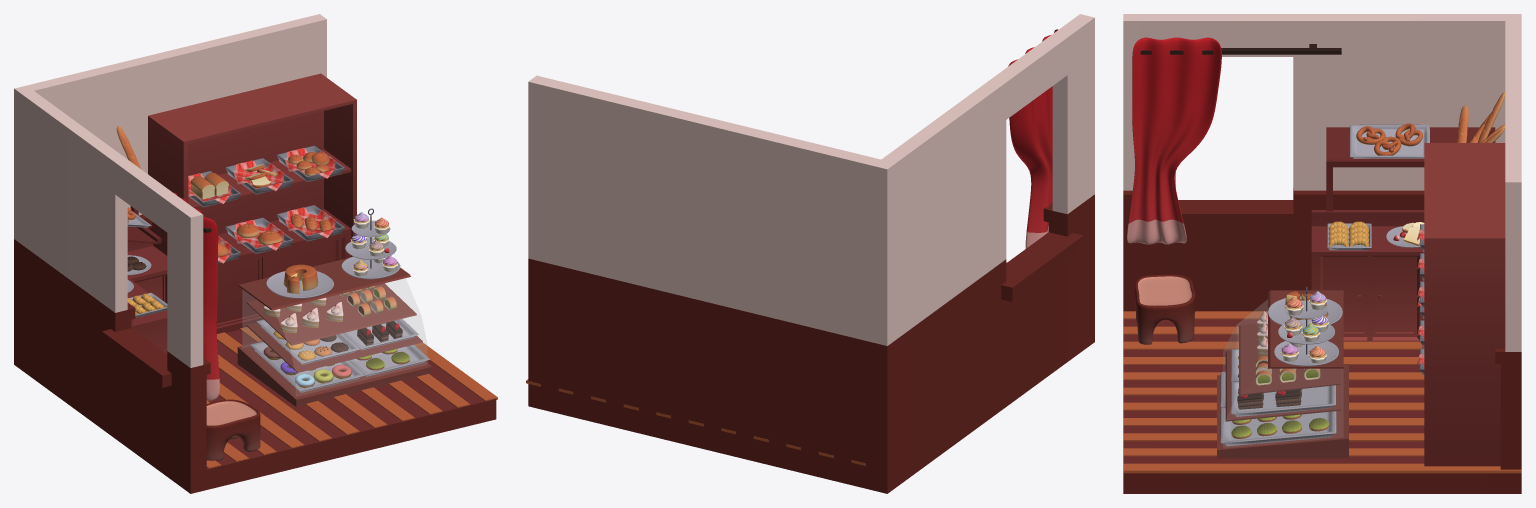
3 renders of one model, left to right at view 1: azimuth 30°, elevation 25°; view 2: azimuth 150°, elevation 25°; view 3: azimuth 270°, elevation 25°, orthographic. The views are drawn at different scales.
Parts seen in each view (by area): view 1: Cube, Cube.001, Cube.003, Cube.004, Cube.007, Cube.008, Cube.002, Cube.005, Cube.006, dishes.001, plate2.006, plate2.002 (+9 smaller); view 2: Cube, Cube.006; view 3: Cube, Cube.001, Cube.007, Cube.006, Cube.002, Cube.008, Cube.003, Cube.004, Cube.005, plate1.002, dishes.001, plate1.004 (+3 smaller).
Boxes of the visible parts, x1=… form: Cube: x1=14, y1=14, x2=496, y2=493; Cube.001: x1=148, y1=73, x2=356, y2=333; Cube.003: x1=242, y1=278, x2=426, y2=396; Cube.004: x1=237, y1=257, x2=431, y2=406; Cube.007: x1=206, y1=327, x2=497, y2=468; Cube.008: x1=206, y1=329, x2=495, y2=469; Cube.002: x1=127, y1=206, x2=167, y2=354; Cube.005: x1=206, y1=399, x2=260, y2=460; Cube.006: x1=174, y1=192, x2=219, y2=400; dishes.001: x1=341, y1=208, x2=400, y2=279; plate2.006: x1=276, y1=205, x2=344, y2=241; plate2.002: x1=225, y1=158, x2=293, y2=194; Cube: x1=528, y1=14, x2=1094, y2=493; Cube.006: x1=1008, y1=29, x2=1057, y2=248; Cube: x1=1123, y1=14, x2=1521, y2=493; Cube.001: x1=1424, y1=143, x2=1505, y2=466; Cube.007: x1=1123, y1=311, x2=1521, y2=473; Cube.006: x1=1127, y1=37, x2=1341, y2=244; Cube.002: x1=1311, y1=127, x2=1495, y2=348; Cube.008: x1=1123, y1=319, x2=1424, y2=463; Cube.003: x1=1223, y1=299, x2=1342, y2=447; Cube.004: x1=1217, y1=290, x2=1348, y2=458; Cube.005: x1=1134, y1=274, x2=1195, y2=344; plate1.002: x1=1220, y1=407, x2=1336, y2=446; dishes.001: x1=1274, y1=286, x2=1338, y2=366; plate1.004: x1=1231, y1=381, x2=1335, y2=416.
Size of the model in its own units: 997 by 831 by 963.
Materials: 4 (3 with a texture image).
